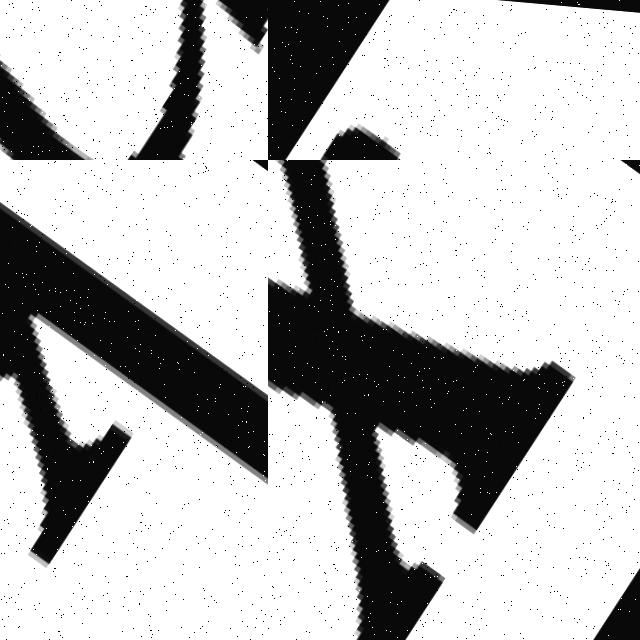J: (270, 94, 640, 160)
K: (0, 160, 268, 640)
N: (0, 0, 268, 160)
X: (268, 160, 640, 640)
